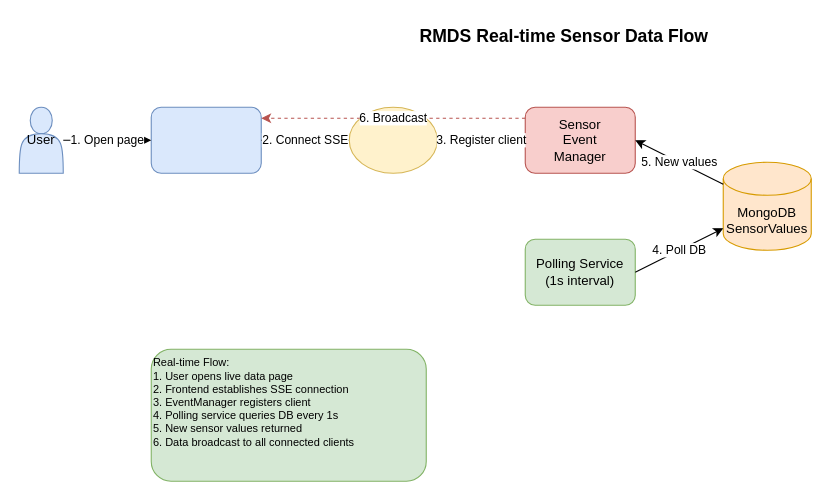
This 831x501 diagram has some shape labels left out. The shapes that lost their labels are listed below. From the top down, each one's centre as x and y in pixels, then its label:
(x=205, y=139): Next.js Dashboard
(x=392, y=139): SSE Connection
